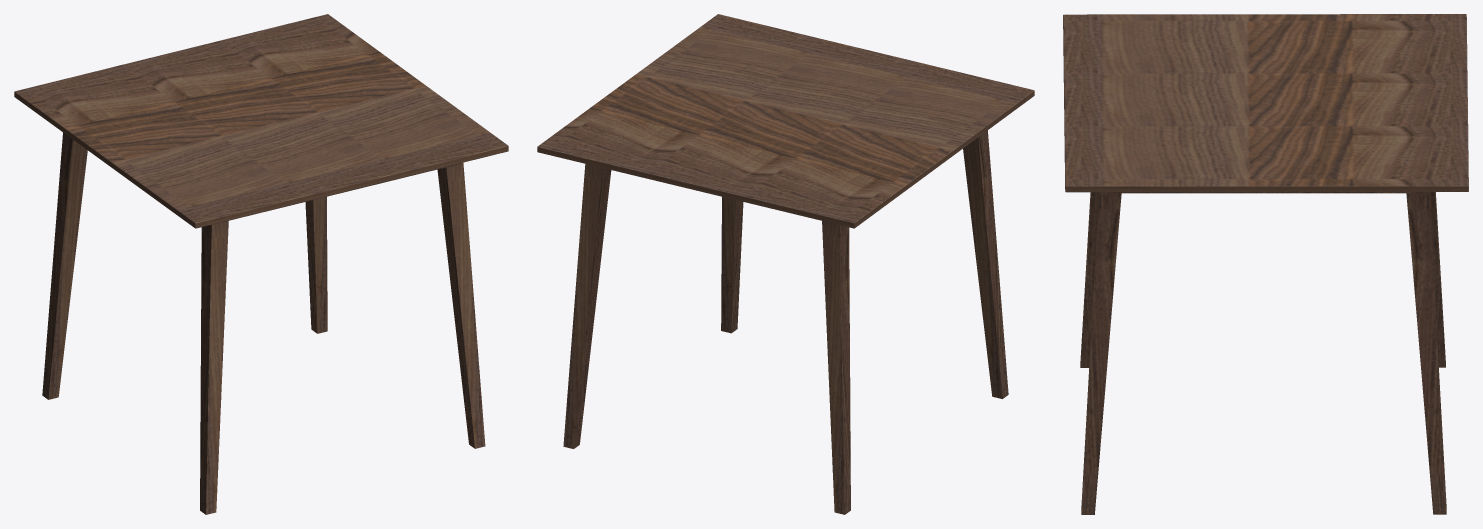
File: raw_model.obj
3 renders of one model, left to right at view 1: azimuth 30°, elevation 25°; view 2: azimuth 150°, elevation 25°; view 3: azimuth 270°, elevation 25°, orthographic. The views are drawn at different scales.
Visible parts, largest first — view 1: solid; view 2: solid; view 3: solid.
Part boxes in pixels (x1,y1,x2,y2): solid: [14, 14, 508, 514]; solid: [537, 14, 1034, 514]; solid: [1063, 14, 1468, 514].
Size of the model in its own units: 0.8083 by 0.7396 by 0.8052.
1 material, 1 textured.
